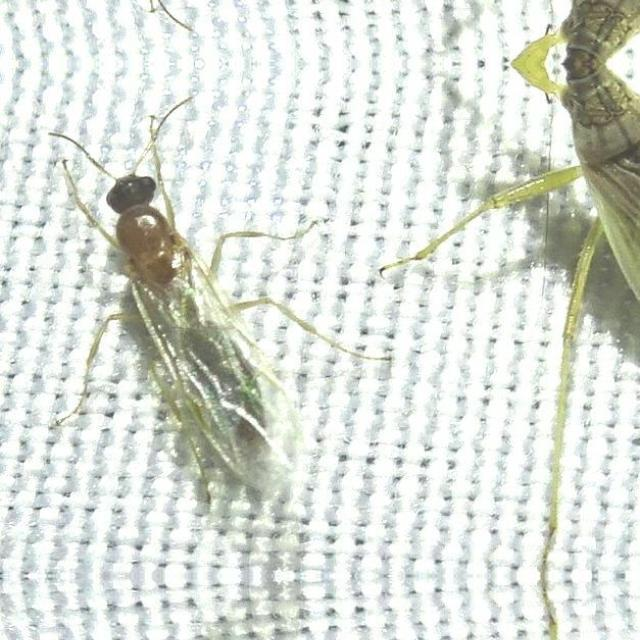Camponotus: (28, 99, 344, 527)
